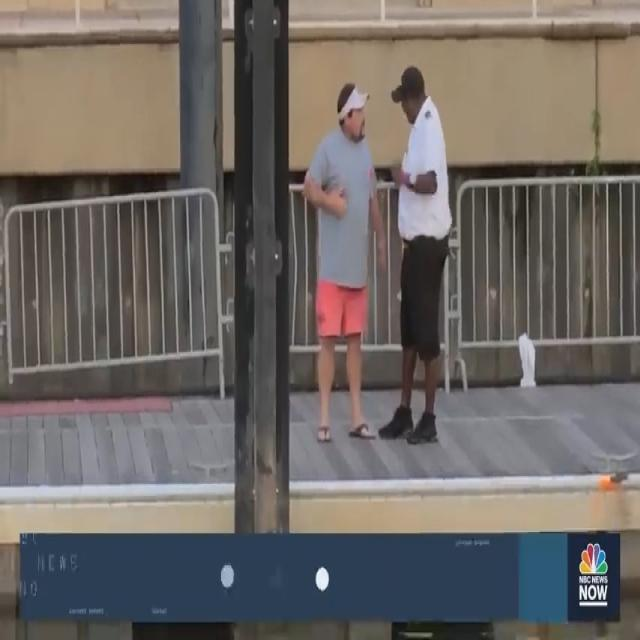non-fight: (302, 61, 451, 449)
